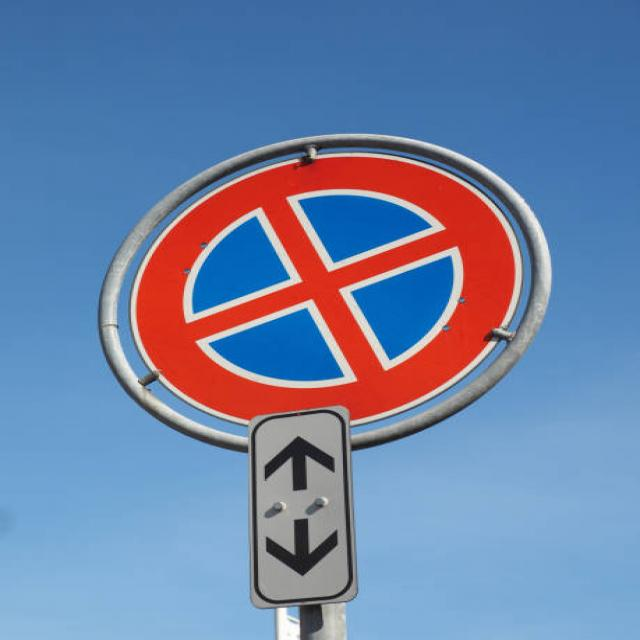no_parking: (98, 147, 521, 428)
